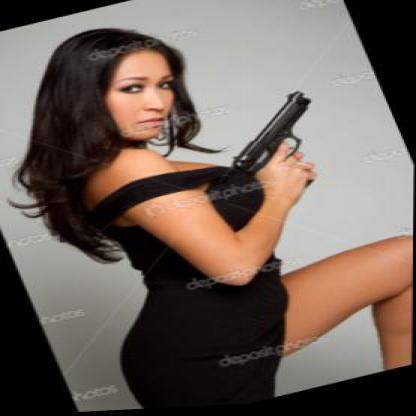pistol: (205, 85, 355, 210)
